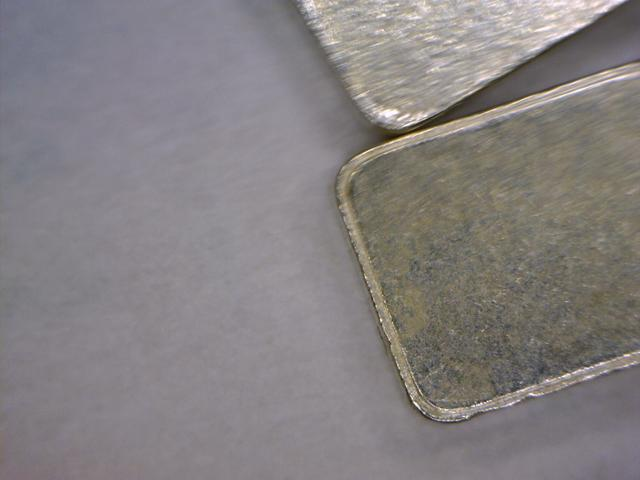nok: (316, 55, 639, 439)
